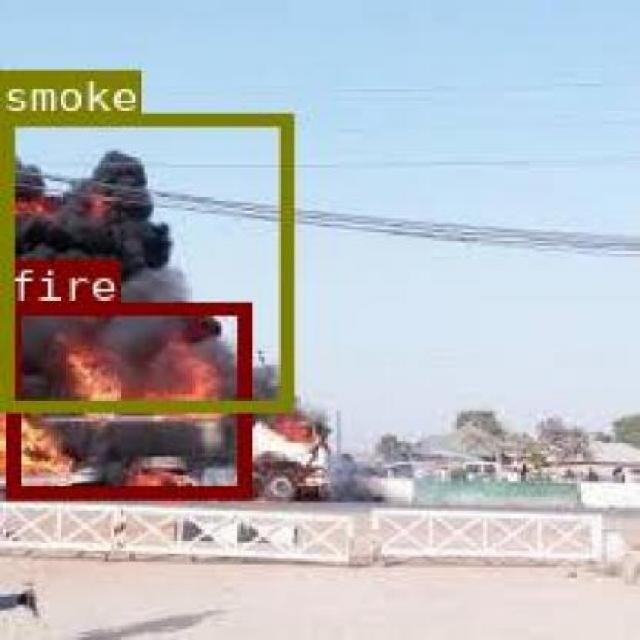Fire: (5, 302, 248, 496)
Smoke: (0, 110, 288, 408)
